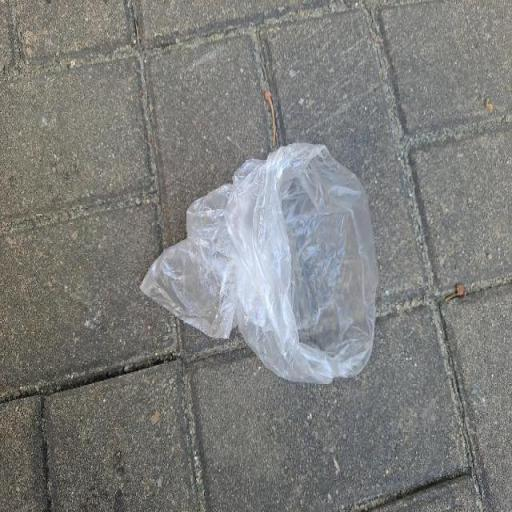plastic-bag: (137, 138, 382, 388)
